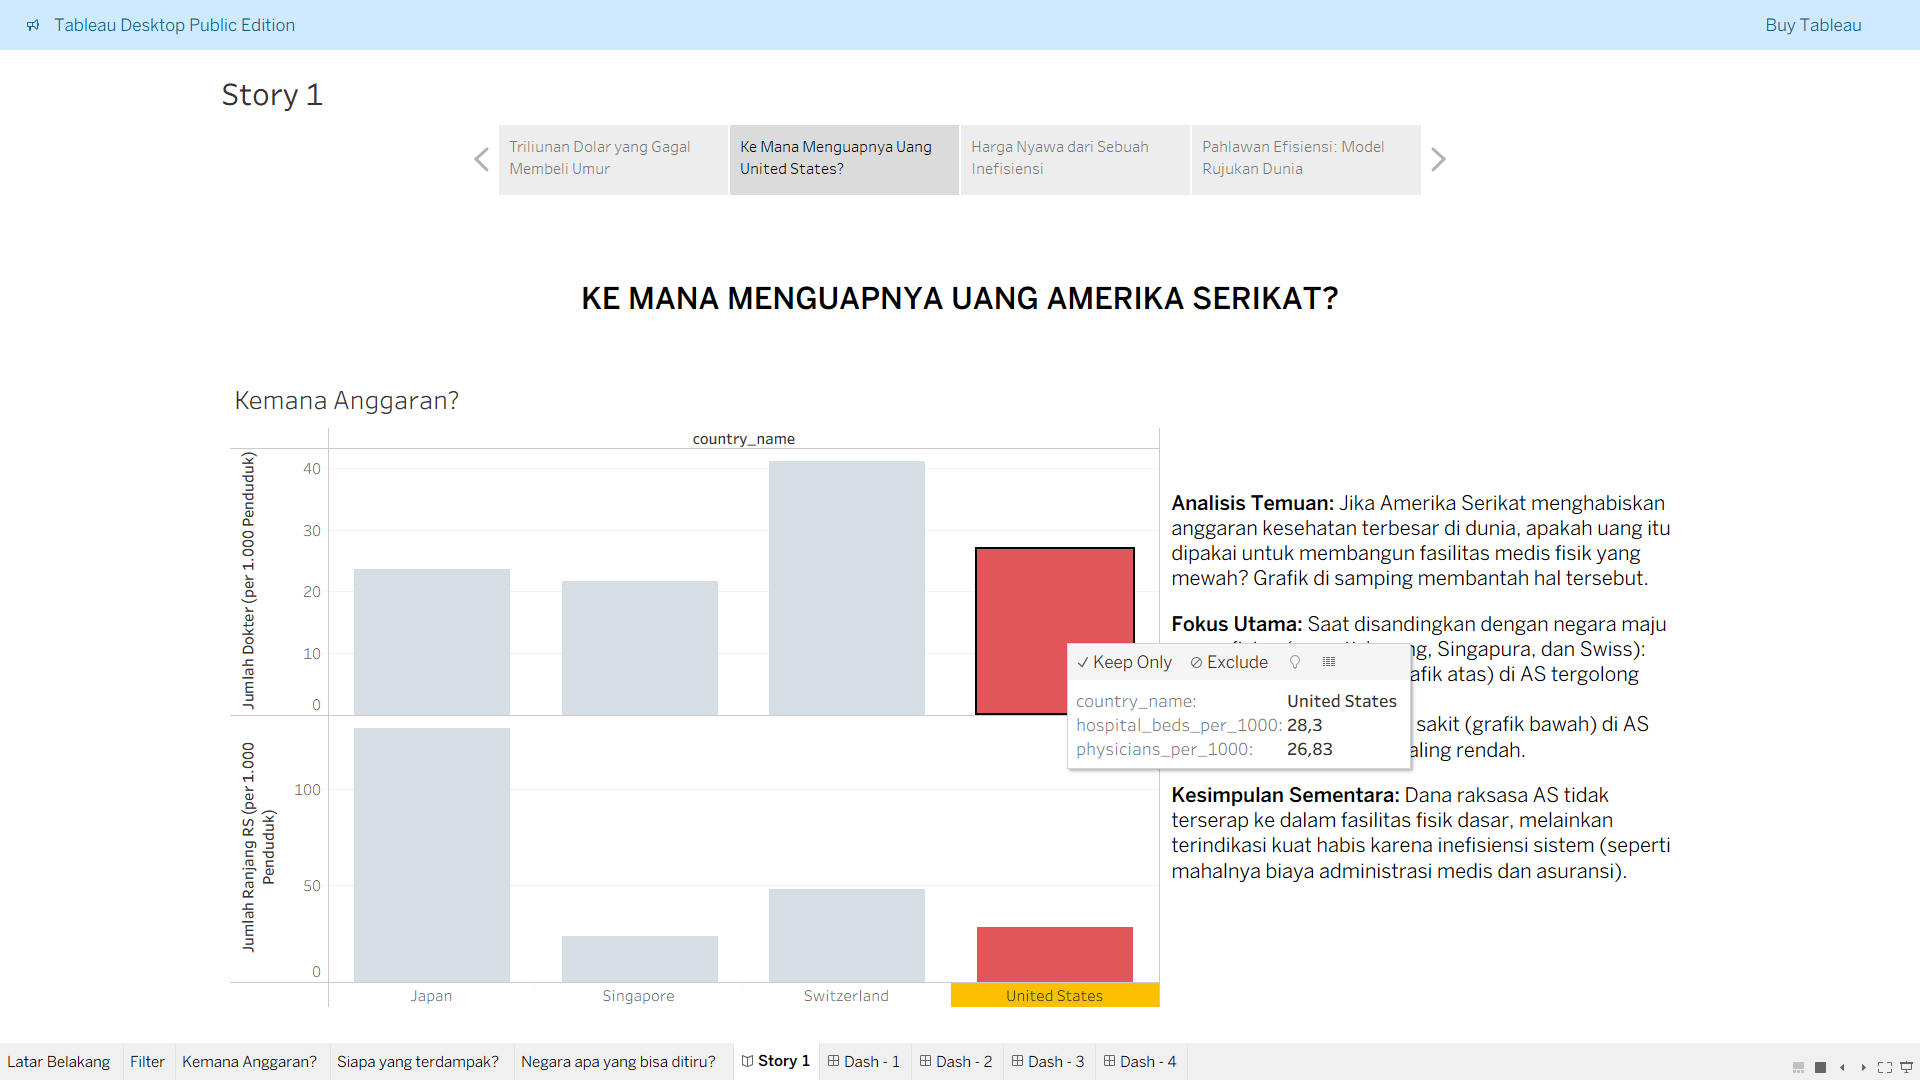

This screenshot's page, from the dashboard's own definition file:
{"tool":"tableau","page":{"name":"Dash - 2","canvas":[1016,964],"ordinal":1},"visuals":[{"type":"text","box":[8,8,1000,181.2]},{"type":"worksheet","title":"Kemana Anggaran?","mark":"Automatic","rows":["physicians_per_1000","hospital_beds_per_1000"],"cols":["country_name"],"box":[8,189.2,639.2,766.8]},{"type":"text","box":[647.2,189.2,360.8,766.8]}]}

Visuals, with their boxes on the page's 1016x964 design canvas (x1, y1, x2, y2). These are canvas units, not pixel positions in the 1920x1080 screenshot, which may show the page scaled, cropped or inside an application window:
text: region(8, 8, 1008, 189)
"Kemana Anggaran?" worksheet: region(8, 189, 647, 956)
text: region(647, 189, 1008, 956)
